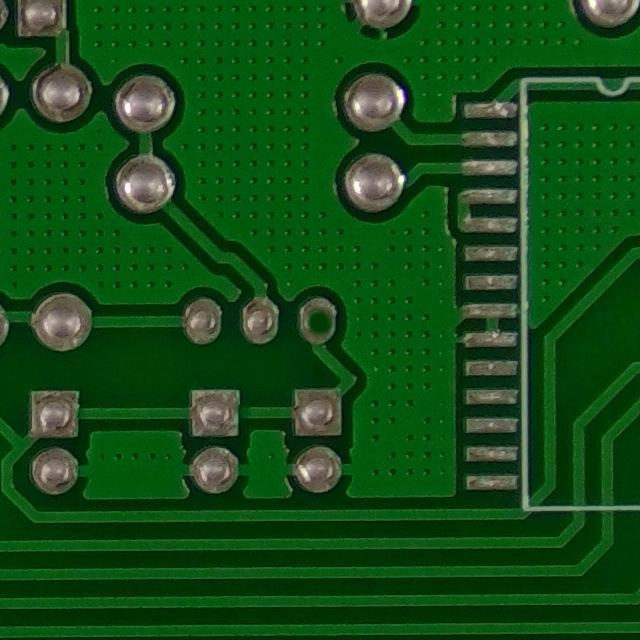missing_hole: (292, 288, 347, 353)
